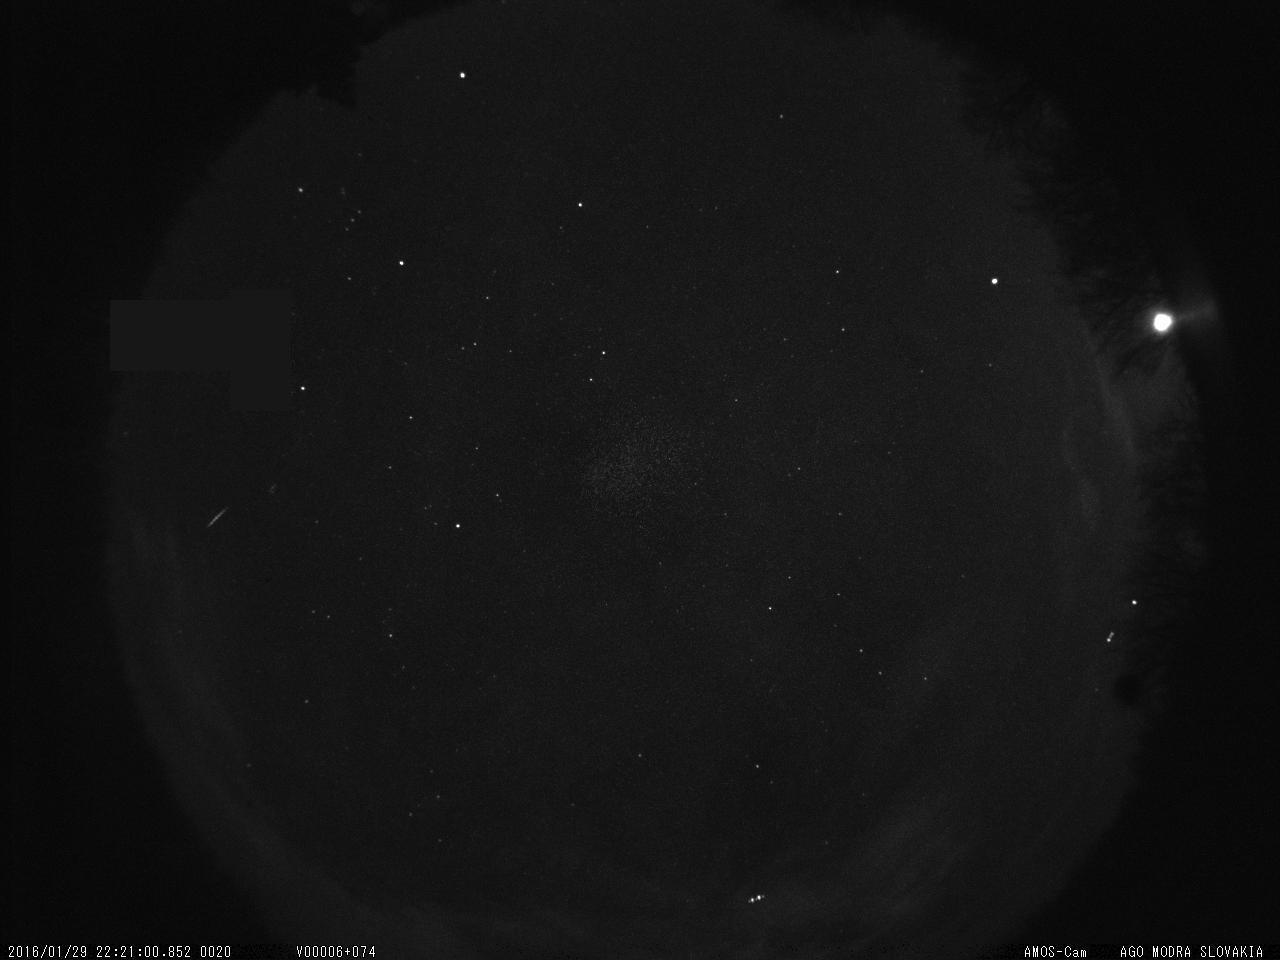meteor: (193, 493, 246, 541)
